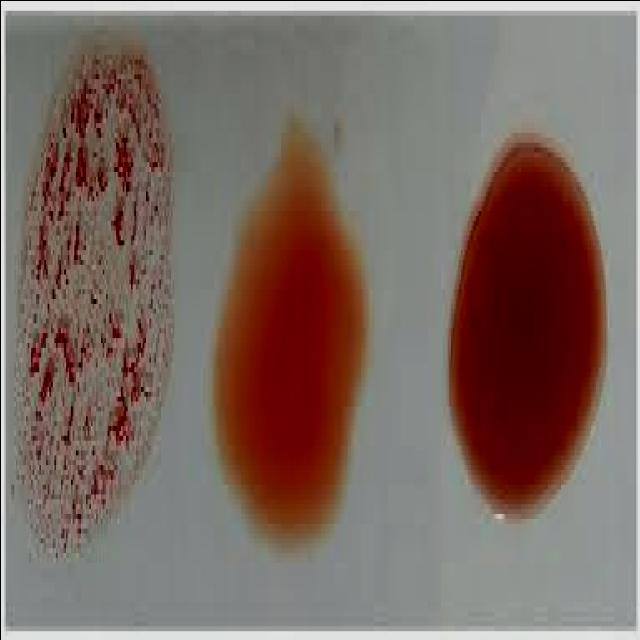D: (24, 44, 168, 554)
